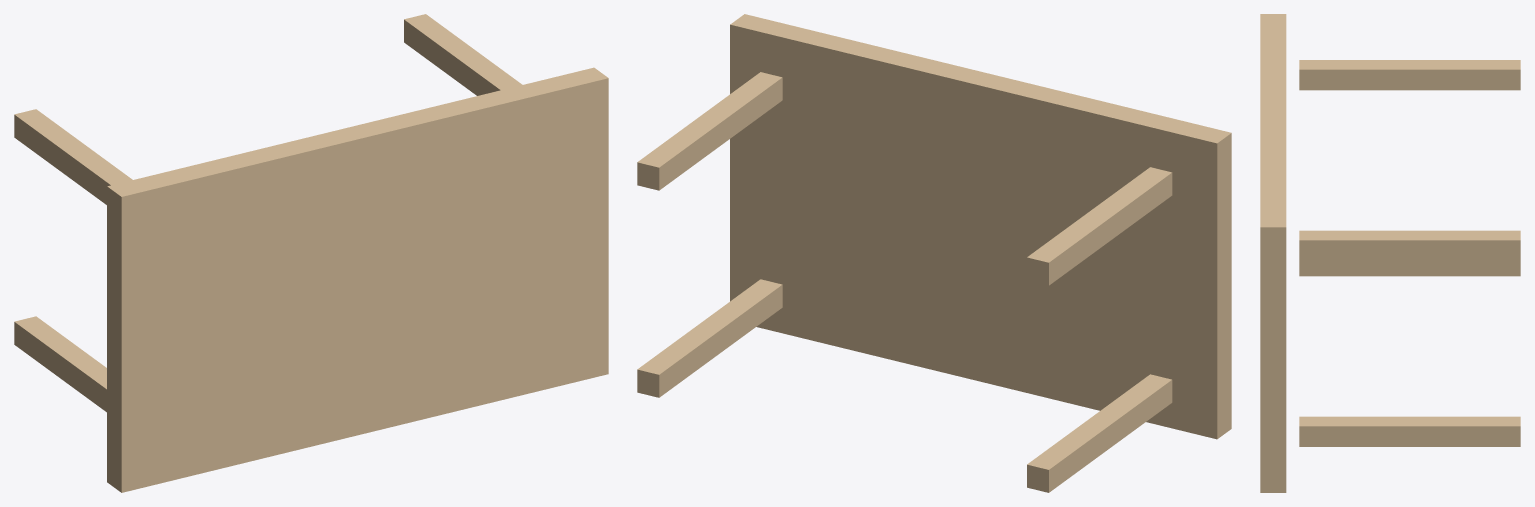
The model's file is dining-table.glb.
3 renders of one model, left to right at view 1: azimuth 30°, elevation 25°; view 2: azimuth 150°, elevation 25°; view 3: azimuth 270°, elevation 25°, orthographic. The views are drawn at different scales.
Visible parts, largest first — view 1: world; view 2: world; view 3: world.
Part boxes in pixels (x1=…): world: x1=14, y1=14, x2=608, y2=492; world: x1=637, y1=14, x2=1231, y2=492; world: x1=1260, y1=14, x2=1520, y2=492.
Bounding box in the file's own units: 1.55 × 0.9 × 0.8.
